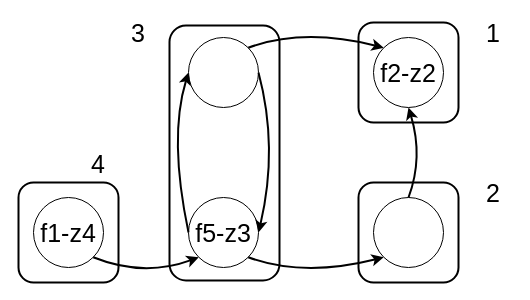
This 530x300 diagram has some shape labels left out. The centre of each missing label's shape, as x and y in pixels:
f3 - z5: point 223,72
f4-z1: point 408,232
